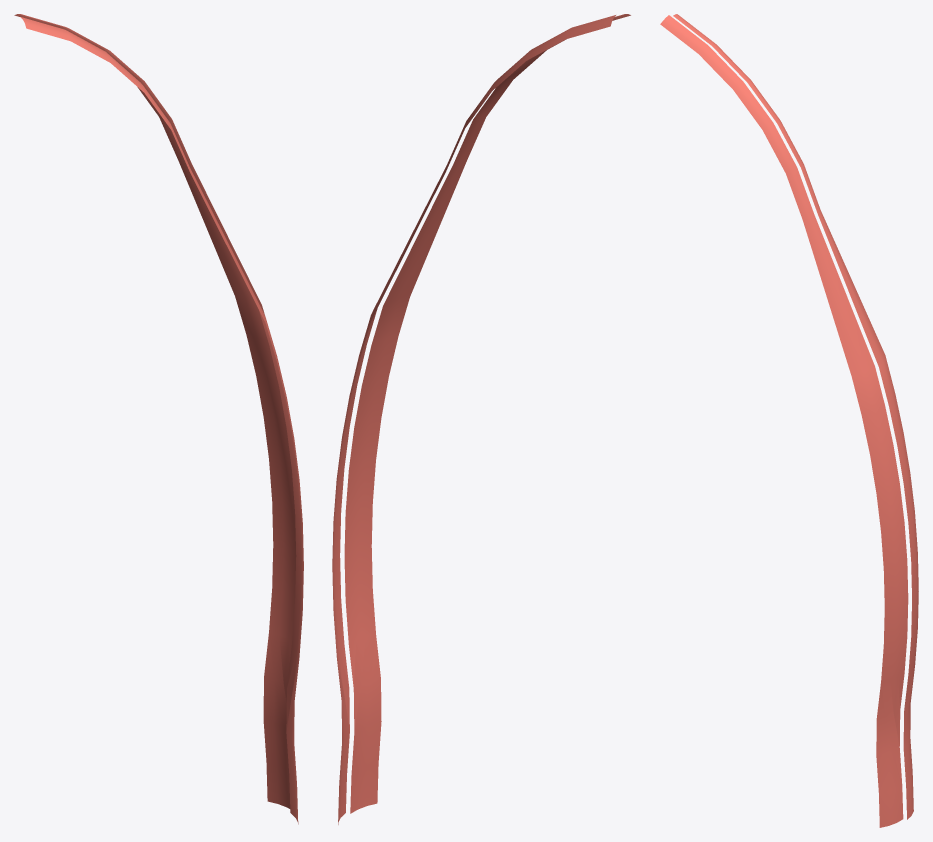
File: esophagusColliderSide2.FBX
3 renders of one model, left to right at view 1: azimuth 30°, elevation 25°; view 2: azimuth 150°, elevation 25°; view 3: azimuth 330°, elevation 25°, orthographic. The views are drawn at different scales.
Visible parts, largest first — view 1: Mesh029; view 2: Mesh029; view 3: Mesh029.
Part boxes in pixels (<box>): Mesh029: <box>14,14,303,824</box>; Mesh029: <box>332,14,630,824</box>; Mesh029: <box>660,14,918,827</box>.
Bounding box in the file's own units: 22.79 × 66.47 × 4.86.
